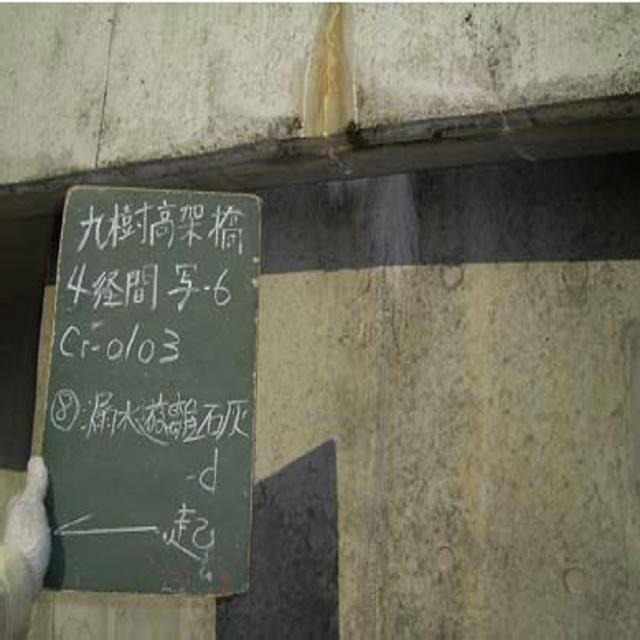freelime: (357, 177, 443, 287)
leakage: (290, 14, 371, 140)
